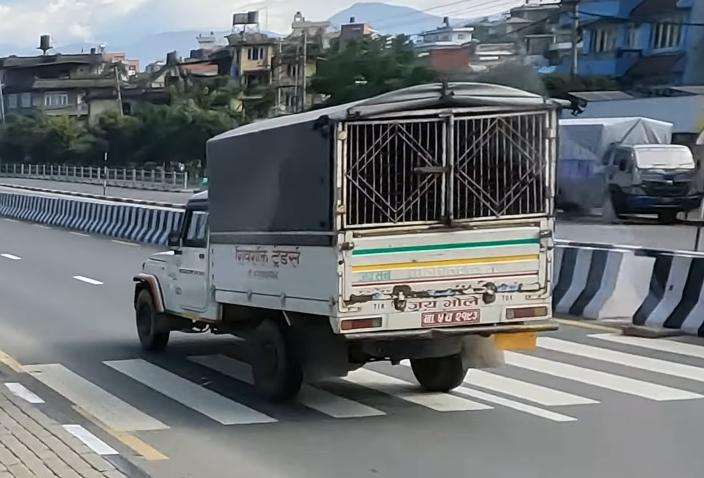mini_truck: (547, 98, 704, 234)
transport_vehicle: (131, 72, 564, 411)
